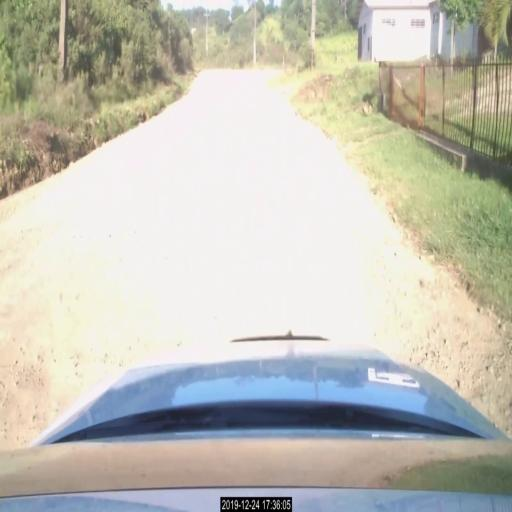Pothole: (415, 279, 485, 370)
